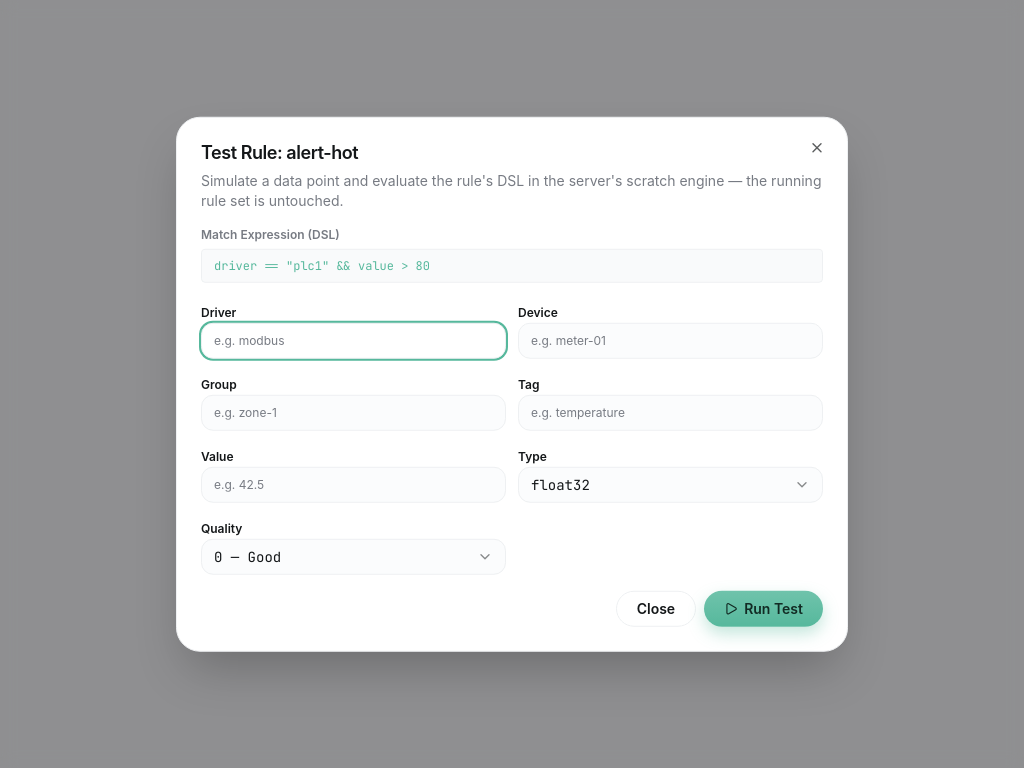
RuleTestDialog — server scratch engine › renders a miss as a plain verdict, not an error
Click the button "Run Test" at (764, 608), box [704,590,823,626]
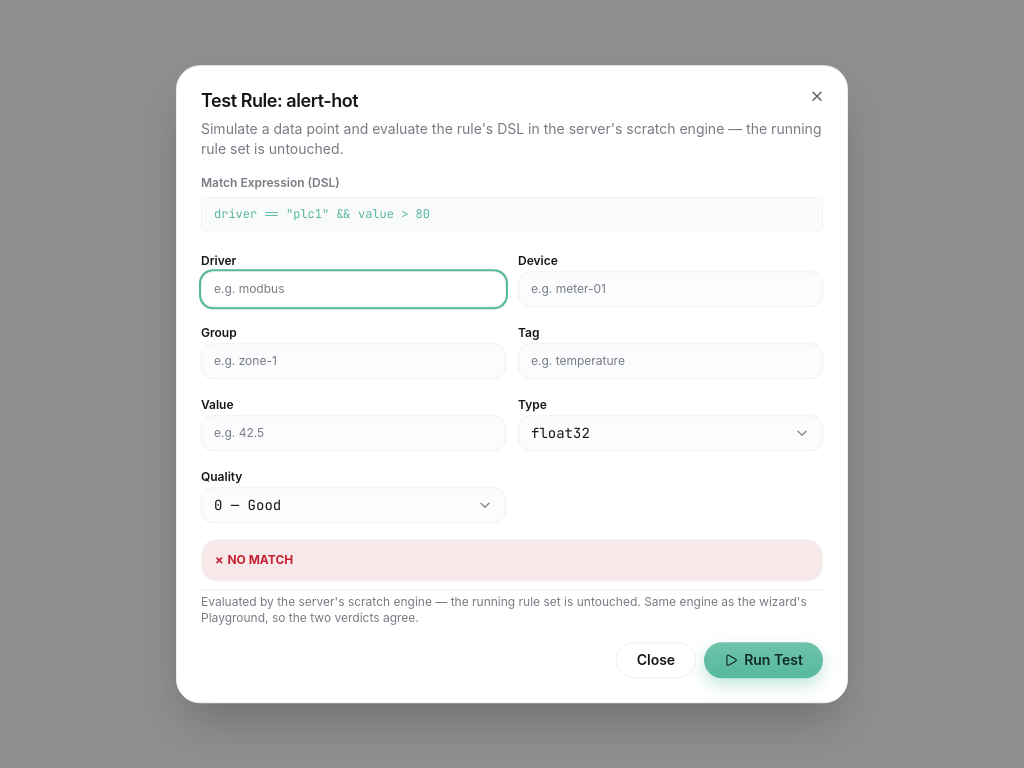
Now the text "✗ NO MATCH" is shown, box [214,552,293,567]
